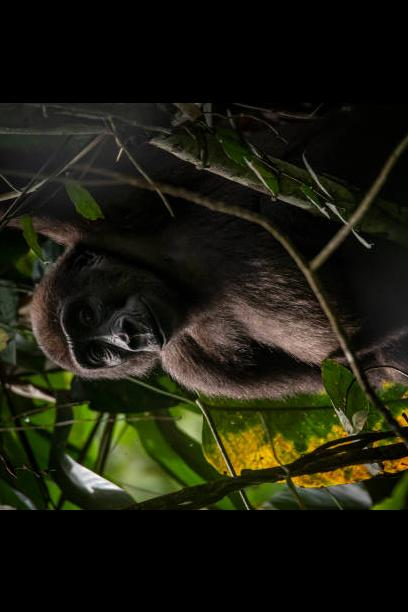gorille_Autres: (13, 168, 408, 400)
